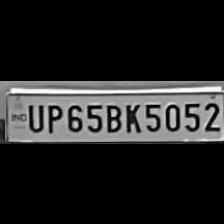0: (162, 99, 180, 131)
2: (202, 98, 220, 132)
5: (140, 98, 162, 132), (180, 98, 200, 132), (84, 100, 104, 132)
6: (64, 100, 82, 132)
B: (103, 100, 121, 132)
K: (122, 99, 142, 133)
P: (42, 100, 62, 132)
U: (23, 100, 43, 132)
